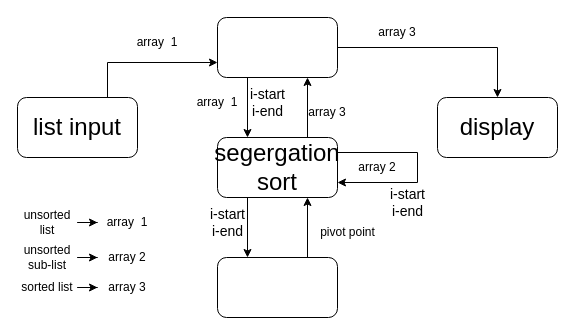
The diagram is 575 pixels wide and 335 high, and some of its shapes have lost their labels. The shapes that lost their labels are listed below. From the top down, each one's centre as x and y in pixels, then its label:
At point (277, 47): "main".
At point (277, 287): "get pivot point".
